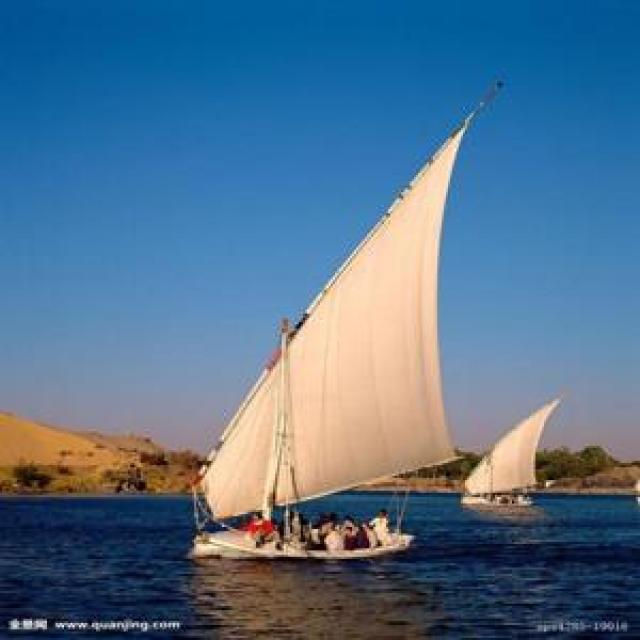sailboat: (191, 76, 503, 560), (463, 392, 560, 515)
